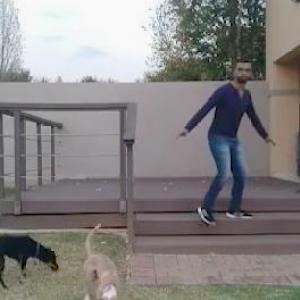land: (186, 58, 265, 233)
